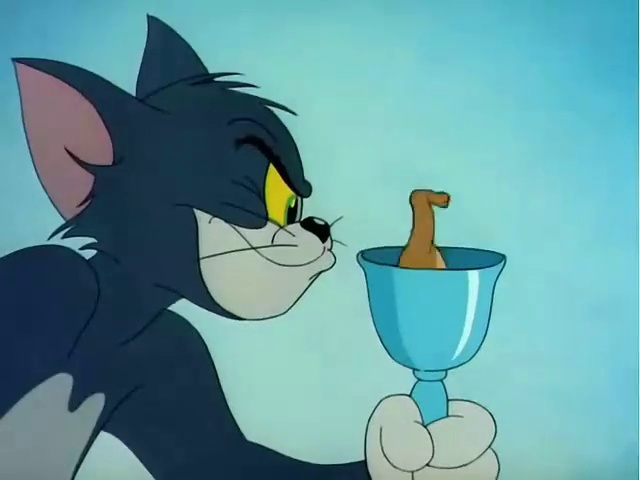tom: (3, 28, 361, 345)
